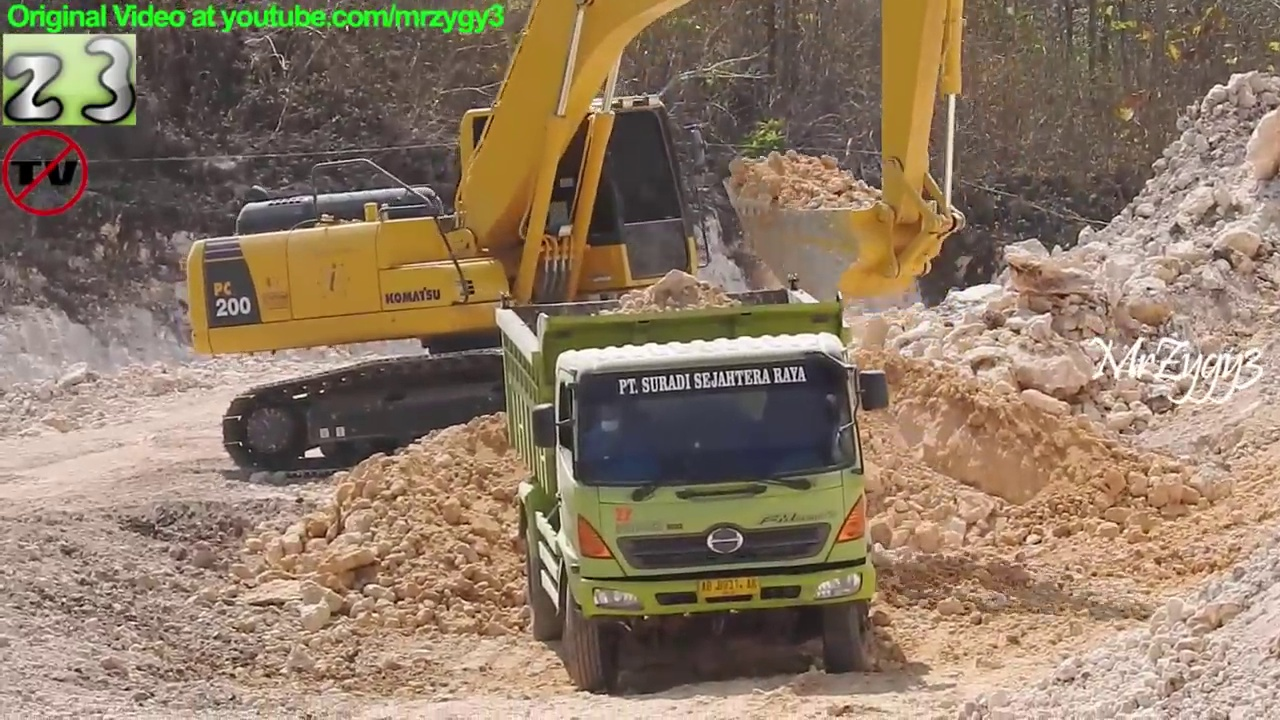excavator: (179, 1, 985, 485)
truck: (492, 269, 893, 695)
